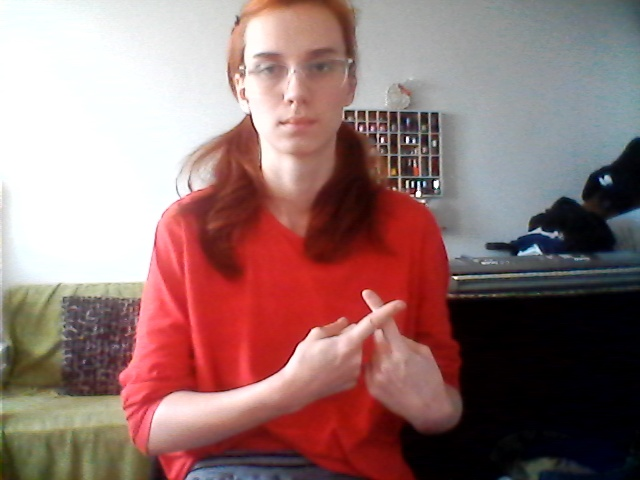x: (285, 279, 455, 439)
